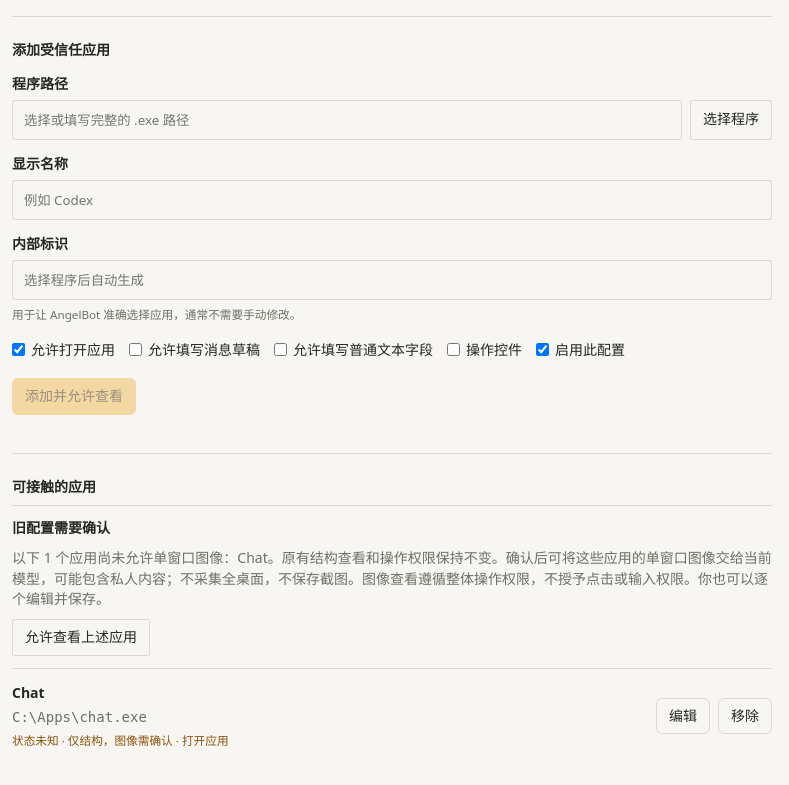
it: DesktopControlSettings › does not silently expand a structural observation grant to window images
(page scrolled)
Check: the text "原有结构查看和操作权限保持不变" shows "可能包含私人内容", box [12,548,772,608]
Check: the text "状态未知 · 仅结构，图像需确认 · 打开应用" is shown, box [12,733,229,748]
What coordinates should you click on to do the following:
click the button "编辑"
I would click on:
 (683, 716)
Its box is [656,698,710,734].
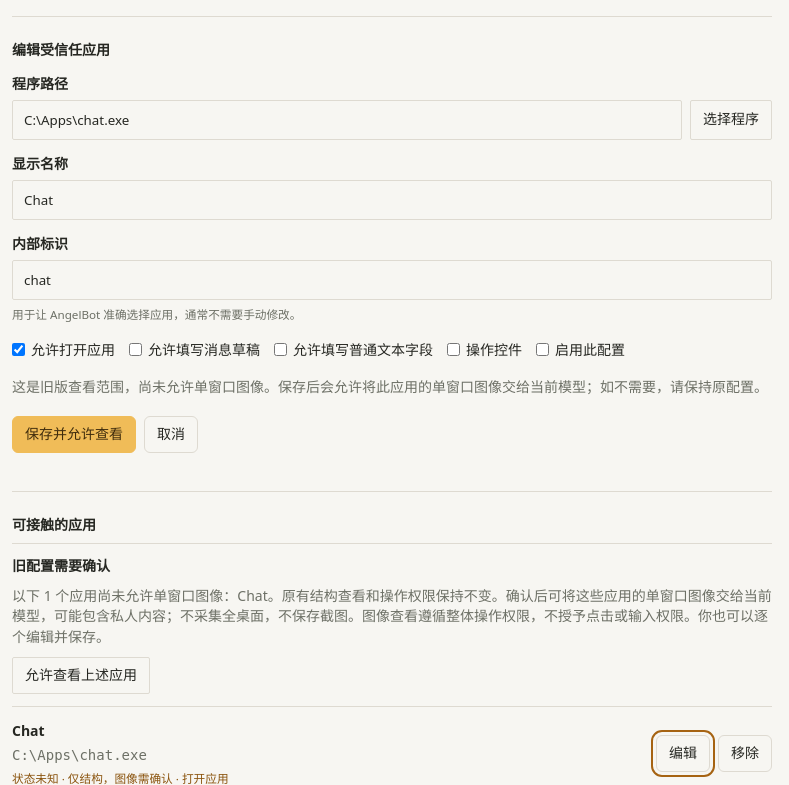
Check: the text "这是旧版查看范围，尚未允许单窗口图像。保存后会允许将此应用的单窗口图像交给当前模型；如不需要，请保持原配置。" is shown, box [12,376,772,398]
Check: the button "保存并允许查看" is shown, box [12,416,136,453]
